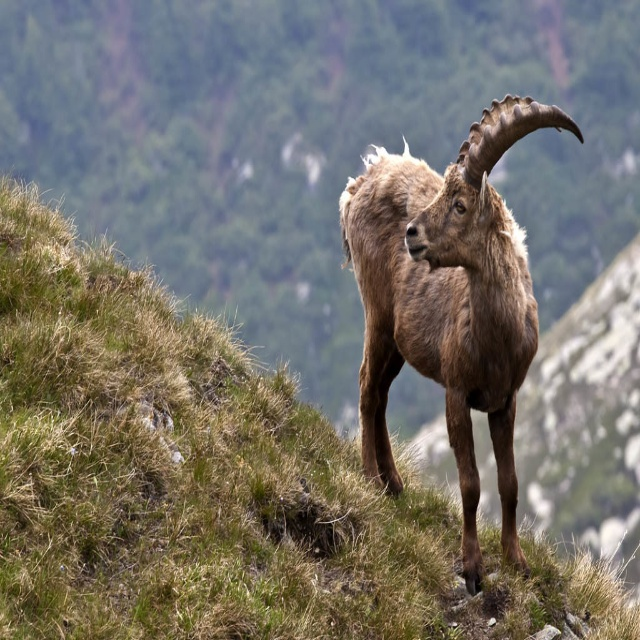Goat: (340, 94, 584, 596)
